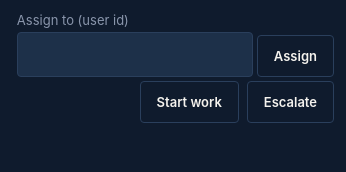
Test case: IssueRowActions — assign › falls back to a generic error message when assign fails without one
In the field labelled "Assign to (user id)": (135, 54) [17, 32, 253, 77], type "user-7"
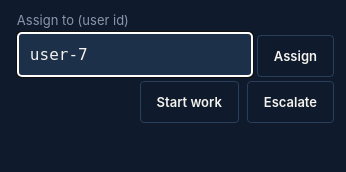
Click the button "Assign": click(295, 56) [257, 35, 334, 77]
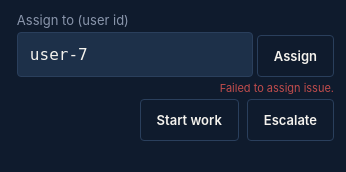
Check: the text "Failed to assign issue." is shown, box [220, 81, 334, 95]
